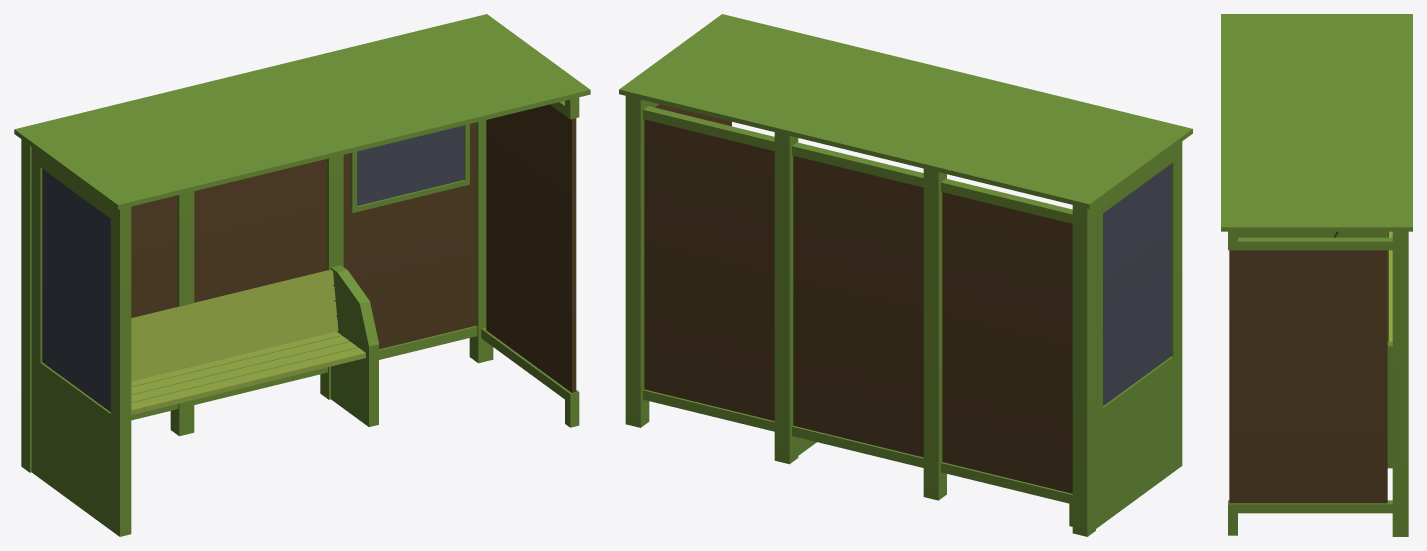
Rendered from BusStation_02.fbx.
The picture shows the model from 3 angles, left to right: view 1: azimuth 30°, elevation 25°; view 2: azimuth 150°, elevation 25°; view 3: azimuth 270°, elevation 25°; orthographic projection. The views are drawn at different scales.
Visible parts, largest first — view 1: BusStation_02; view 2: BusStation_02; view 3: BusStation_02.
Part boxes in pixels (x1=…): BusStation_02: x1=14, y1=14, x2=590, y2=536; BusStation_02: x1=619, y1=14, x2=1192, y2=536; BusStation_02: x1=1221, y1=14, x2=1412, y2=536.
Size of the model in its own units: 3.16 by 2.15 by 1.2.
